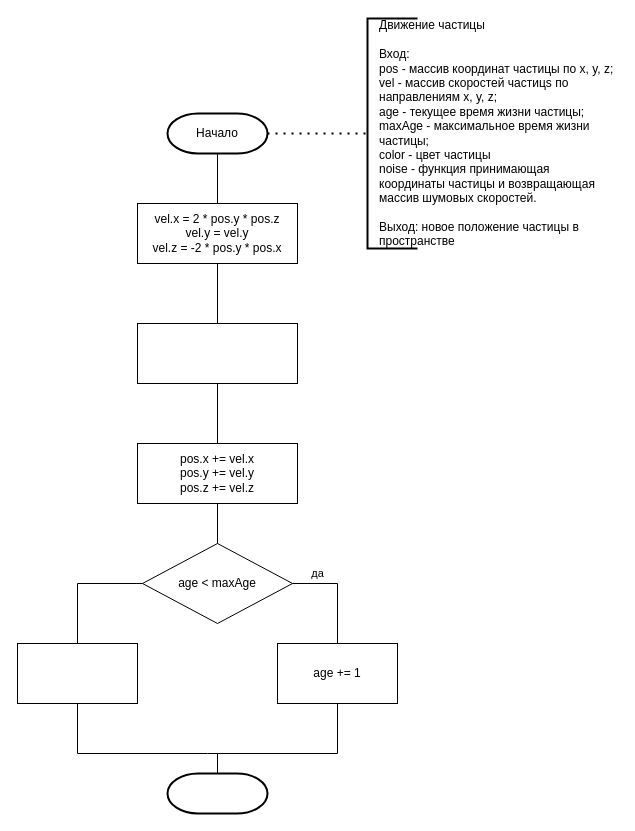
This 635x831 diagram has some shape labels left out. The shapes that lost their labels are listed below. From the top down, each one's centre as x and y in pixels, then its label:
At point (217, 353): "vel.x += noise.x vel.y += noise.y vel.z += noise.z".
At point (77, 673): "delete particle".
At point (217, 793): "Конец".
